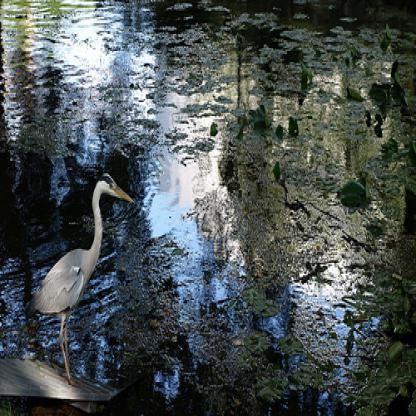bird: (34, 168, 136, 390)
